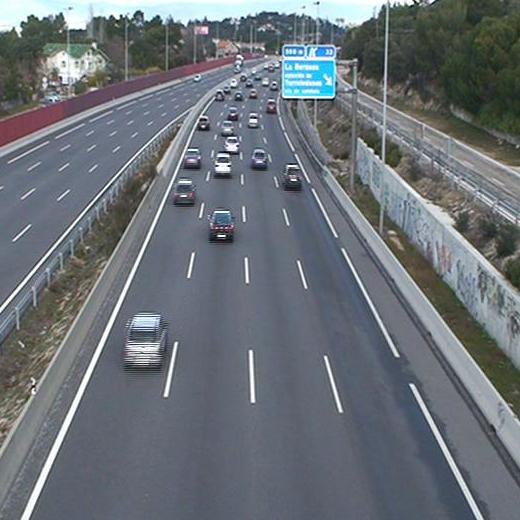car: (122, 311, 166, 362), (208, 208, 234, 240), (172, 178, 196, 203), (281, 163, 303, 187), (213, 153, 232, 172), (182, 148, 202, 166), (250, 149, 268, 167), (224, 136, 239, 152), (246, 112, 260, 127), (221, 121, 234, 135), (197, 116, 210, 129)
